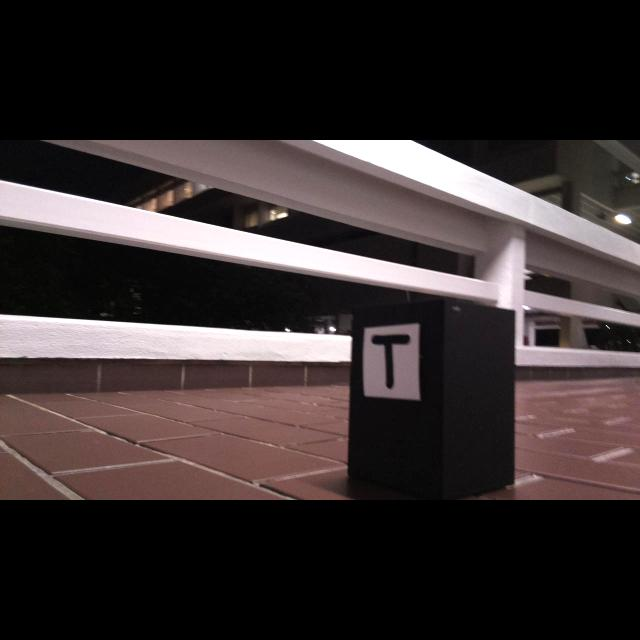T: (371, 334, 411, 390)
